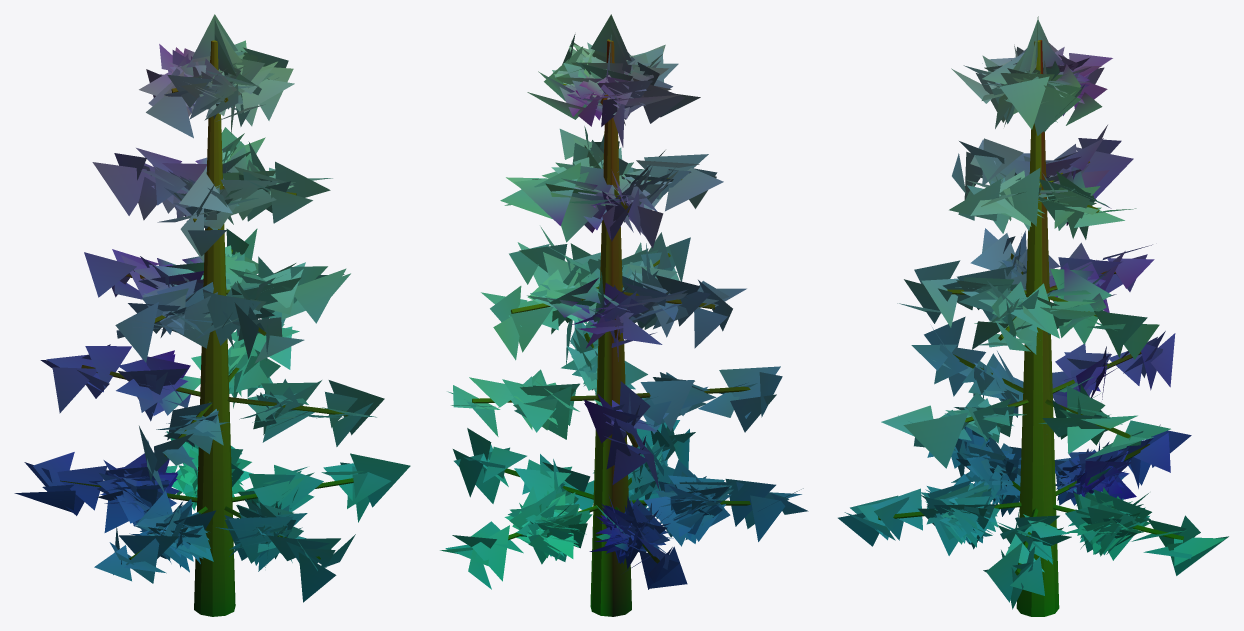
Rendered from ecological_conifer_young_01.glb.
The picture shows the model from 3 angles, left to right: view 1: azimuth 30°, elevation 25°; view 2: azimuth 150°, elevation 25°; view 3: azimuth 270°, elevation 25°; orthographic projection.
Visible parts, largest first — view 1: ecological_conifer_young_01; view 2: ecological_conifer_young_01; view 3: ecological_conifer_young_01.
Part boxes in pixels (<box>): ecological_conifer_young_01: <box>14,14,410,616</box>; ecological_conifer_young_01: <box>440,14,808,616</box>; ecological_conifer_young_01: <box>838,16,1228,616</box>.
Bounding box in the file's own units: 6.4 × 10.94 × 6.55.
